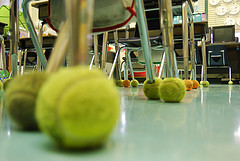tennis ball: (34, 63, 122, 150), (5, 70, 61, 131), (157, 77, 185, 102), (143, 78, 163, 100), (182, 79, 195, 91), (122, 79, 131, 89), (132, 79, 139, 88), (202, 81, 210, 88)
